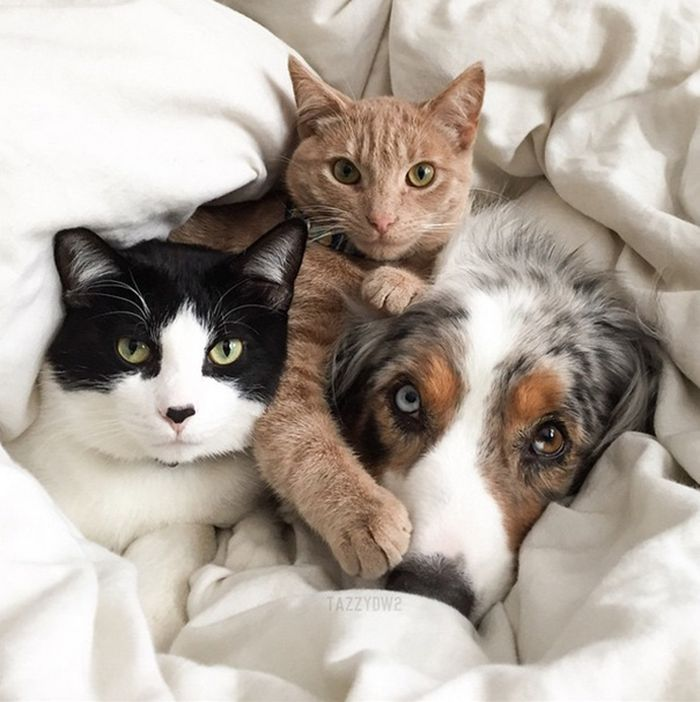anjing: (327, 266, 628, 634)
kucing: (22, 207, 289, 571), (260, 15, 498, 268)
